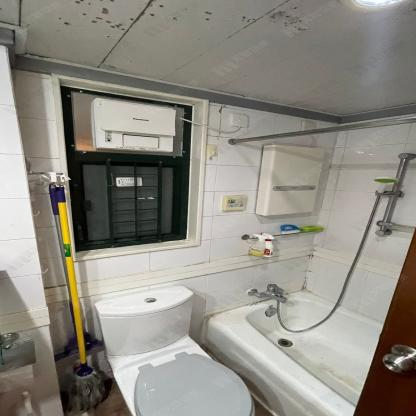Bathtub: (200, 287, 382, 416)
Toilet: (88, 282, 258, 416)
Water Heater: (254, 145, 326, 216)
